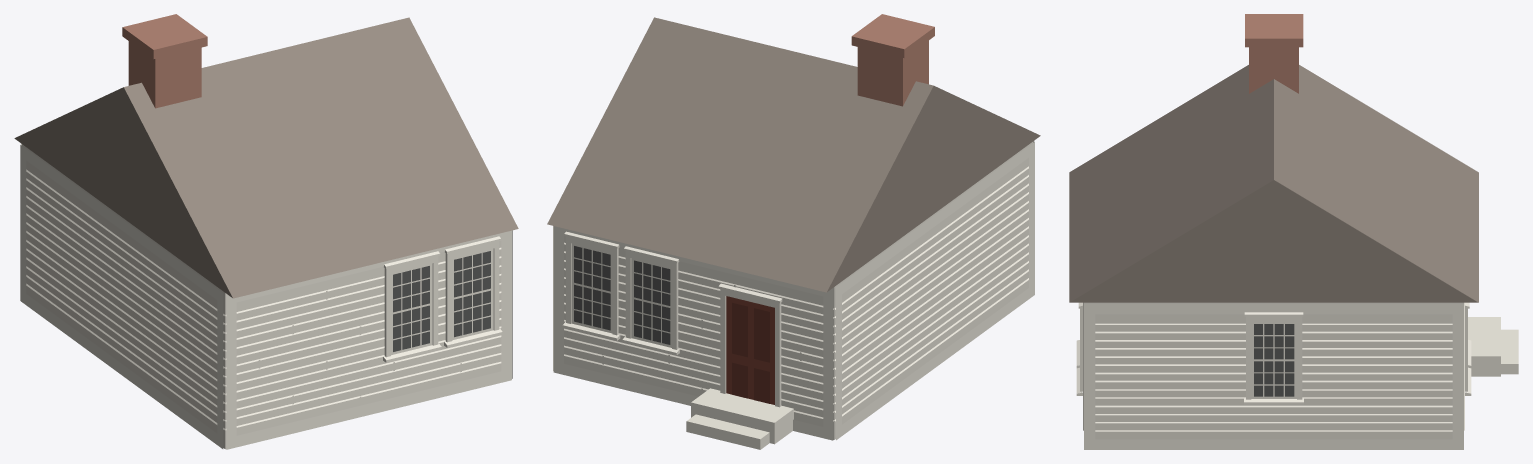
File: recon_1835_north_d3_038__inferred_1835.glb
3 views of the same model, side by side, from view 1: azimuth 30°, elevation 25°; view 2: azimuth 150°, elevation 25°; view 3: azimuth 270°, elevation 25° (orthographic). The views are drawn at different scales.
Visible parts, largest first — view 1: recon_1835_north_d3_038__inferred_1835; view 2: recon_1835_north_d3_038__inferred_1835; view 3: recon_1835_north_d3_038__inferred_1835.
Boxes of the visible parts, box(x1,y1,x2,y2) form: recon_1835_north_d3_038__inferred_1835: box(14, 14, 518, 449); recon_1835_north_d3_038__inferred_1835: box(547, 14, 1040, 449); recon_1835_north_d3_038__inferred_1835: box(1069, 14, 1518, 449).
Size of the model in its own units: 5.33 by 5.77 by 7.55.
